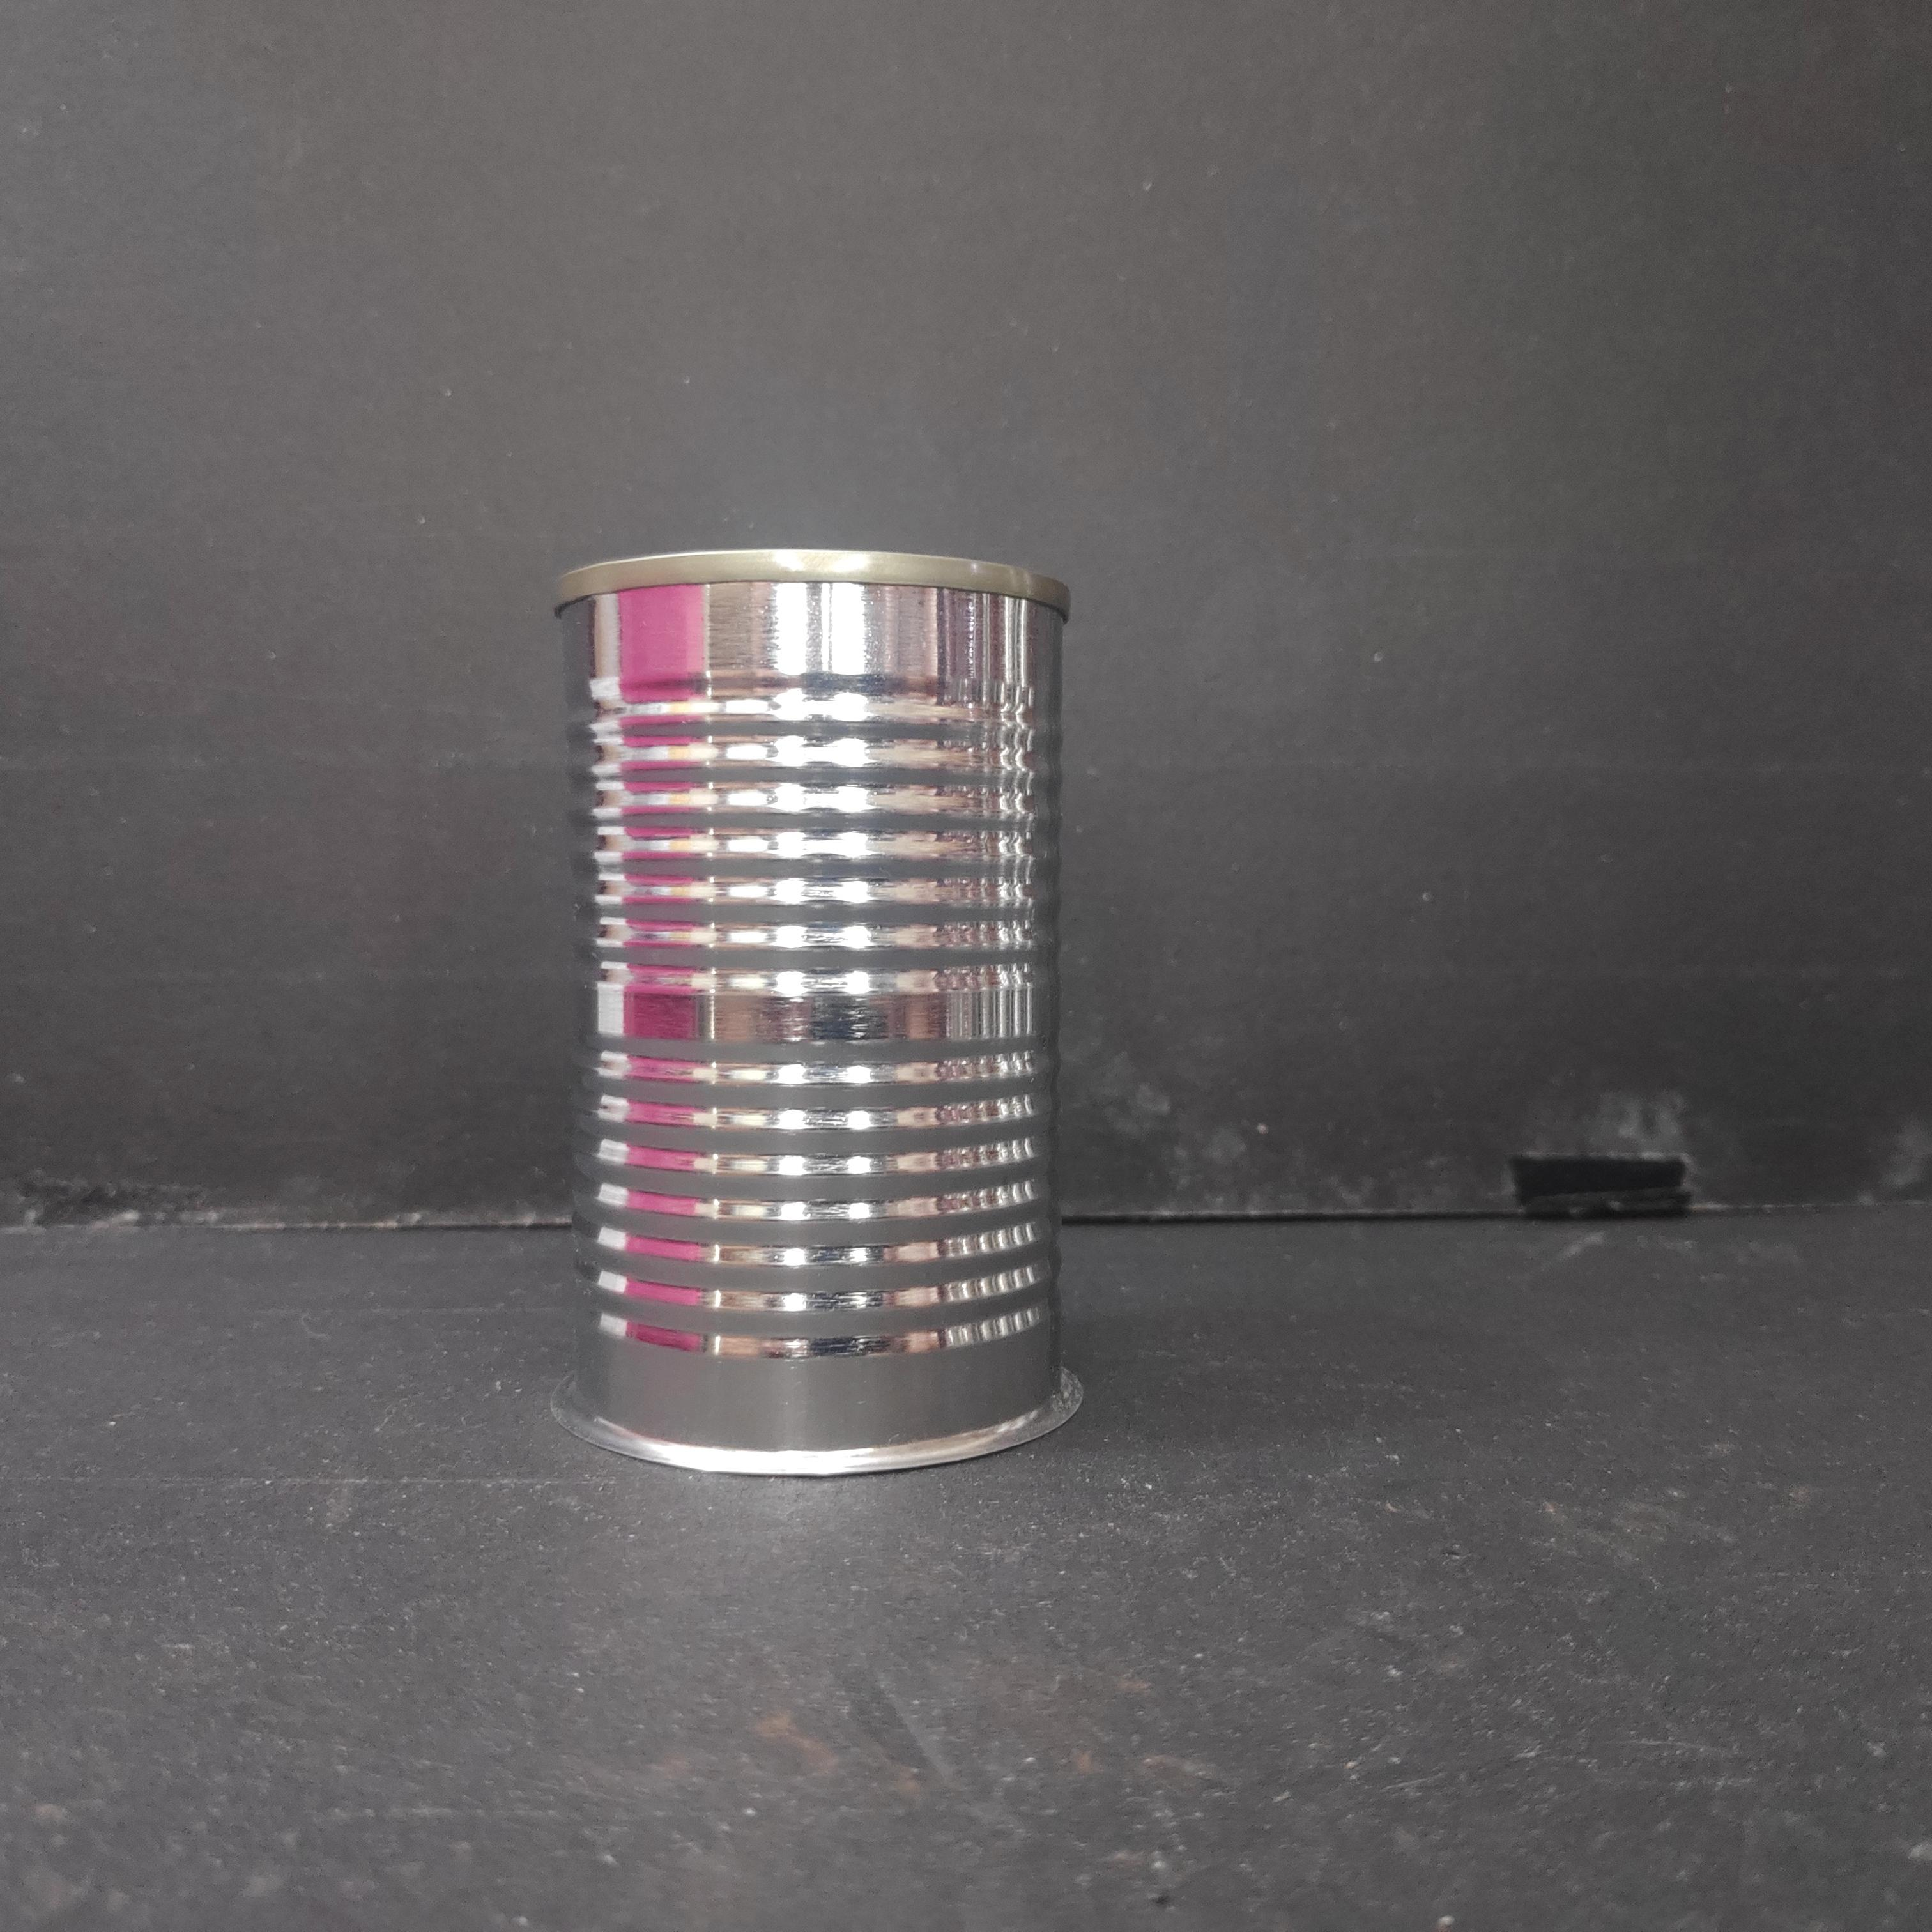No defect: (545, 547, 1088, 1479)
